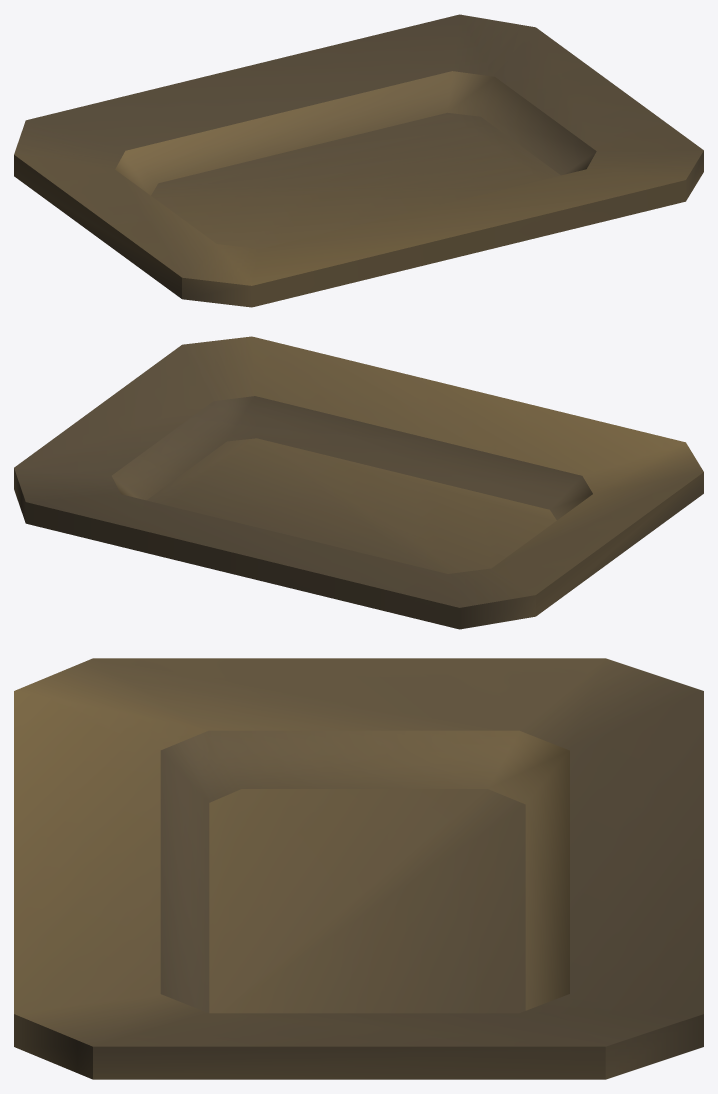
File: plate_wood_oval.fbx
3 renders of one model, top to bottom at view 1: azimuth 30°, elevation 25°; view 2: azimuth 150°, elevation 25°; view 3: azimuth 270°, elevation 25°, orthographic. The views are drawn at different scales.
Parts seen in each view (by area): view 1: plate_wood_oval; view 2: plate_wood_oval; view 3: plate_wood_oval.
Part boxes in pixels (x1,y1,x2,y2): plate_wood_oval: (14,14,703,307); plate_wood_oval: (14,336,703,629); plate_wood_oval: (14,658,703,1079).
Bounding box in the file's own units: 75.85 × 6.82 × 56.95.
